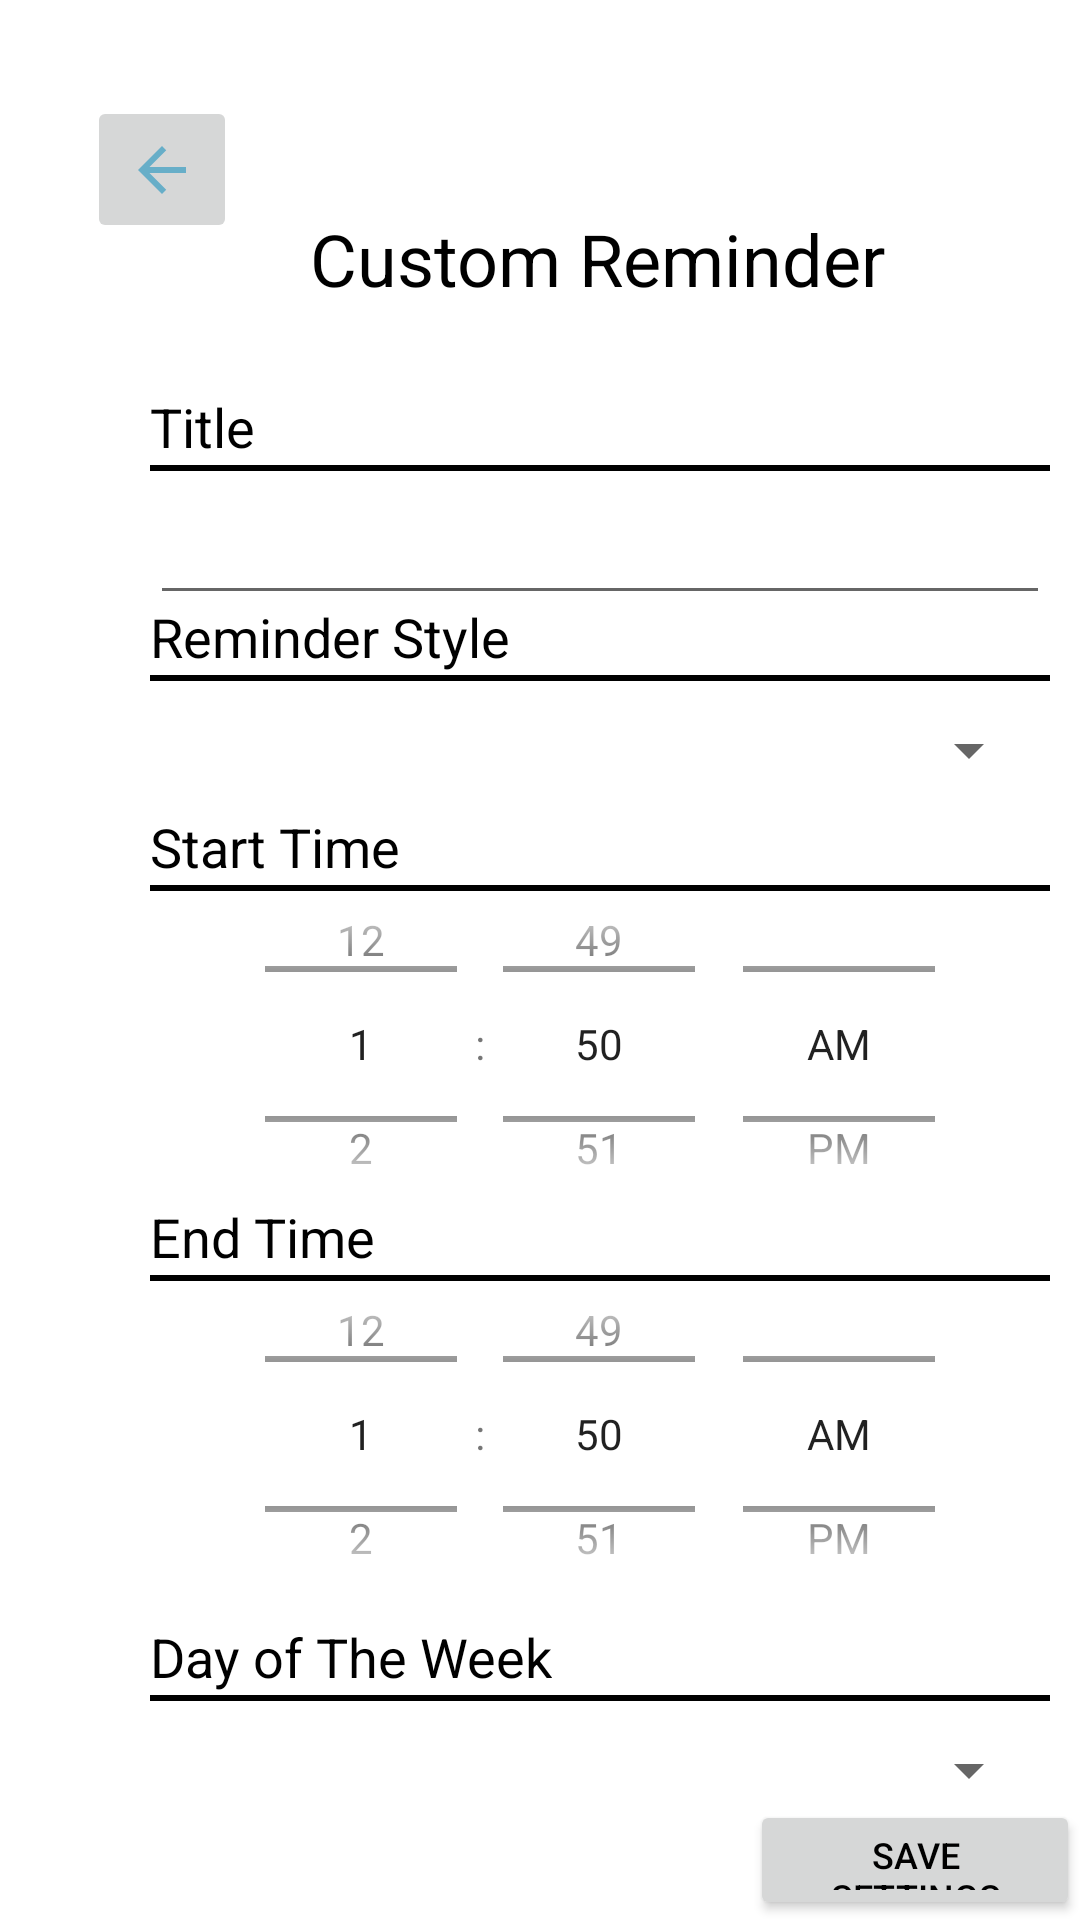

Screen size 1080*1920. Icon name, then its box in pixels as (x1, y1, x2, y2):
arrow back: (99, 114, 225, 225)
